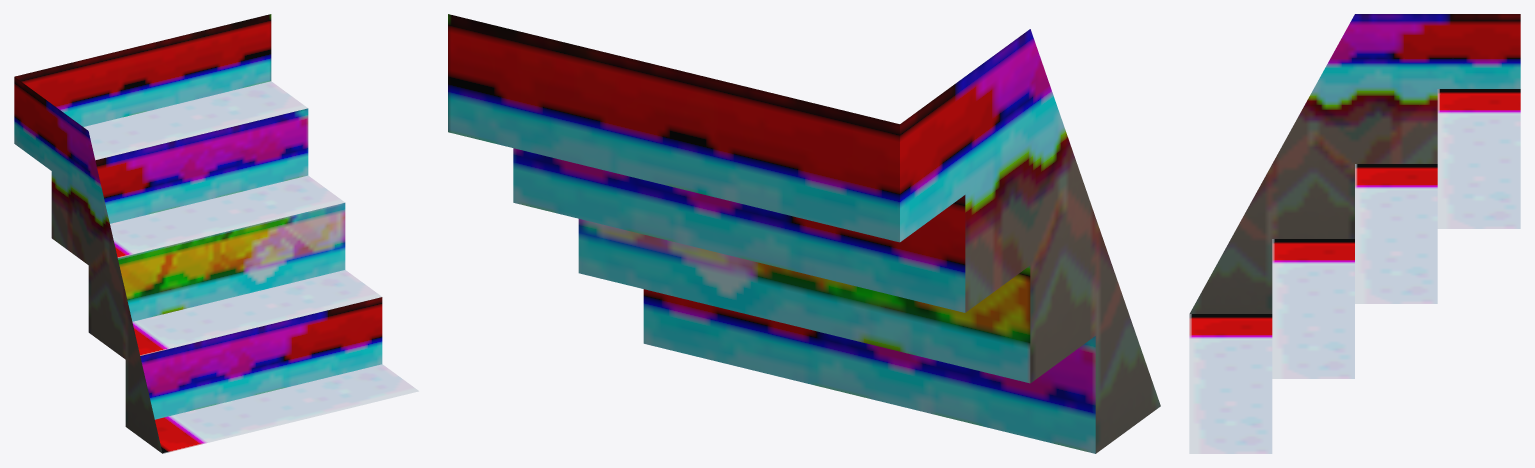
Rendered from arch_winter_stairs_wallLeft.FBX.
3 renders of one model, left to right at view 1: azimuth 30°, elevation 25°; view 2: azimuth 150°, elevation 25°; view 3: azimuth 270°, elevation 25°, orthographic. The views are drawn at different scales.
Visible parts, largest first — view 1: arch_winter_stairs_wallLeft; view 2: arch_winter_stairs_wallLeft; view 3: arch_winter_stairs_wallLeft.
Boxes of the visible parts, x1,y1,x2,y2 form: arch_winter_stairs_wallLeft: [14, 14, 418, 453]; arch_winter_stairs_wallLeft: [448, 14, 1160, 453]; arch_winter_stairs_wallLeft: [1189, 14, 1520, 453].
Bounding box in the file's own units: 2 × 2 × 2.
1 material, 1 textured.
